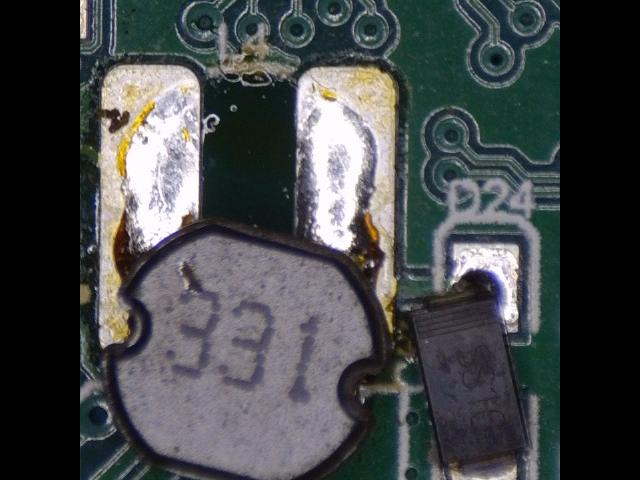Incorrect_installation: (99, 61, 399, 480), (408, 236, 536, 480)
